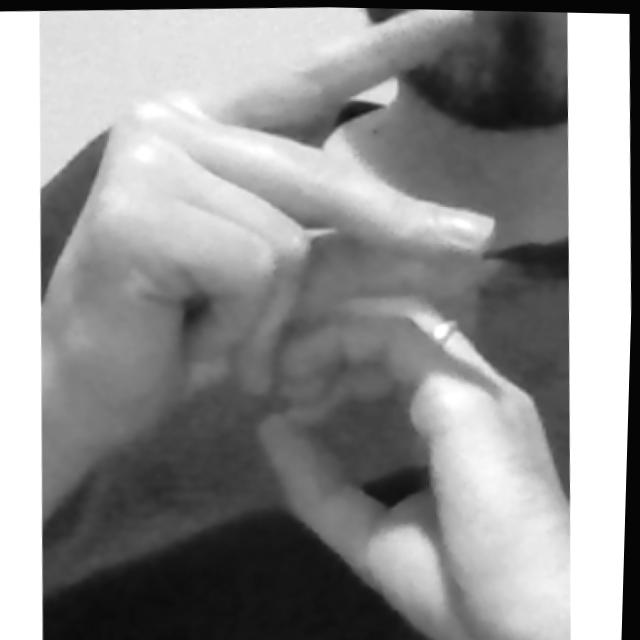O--: (20, 1, 589, 640)
